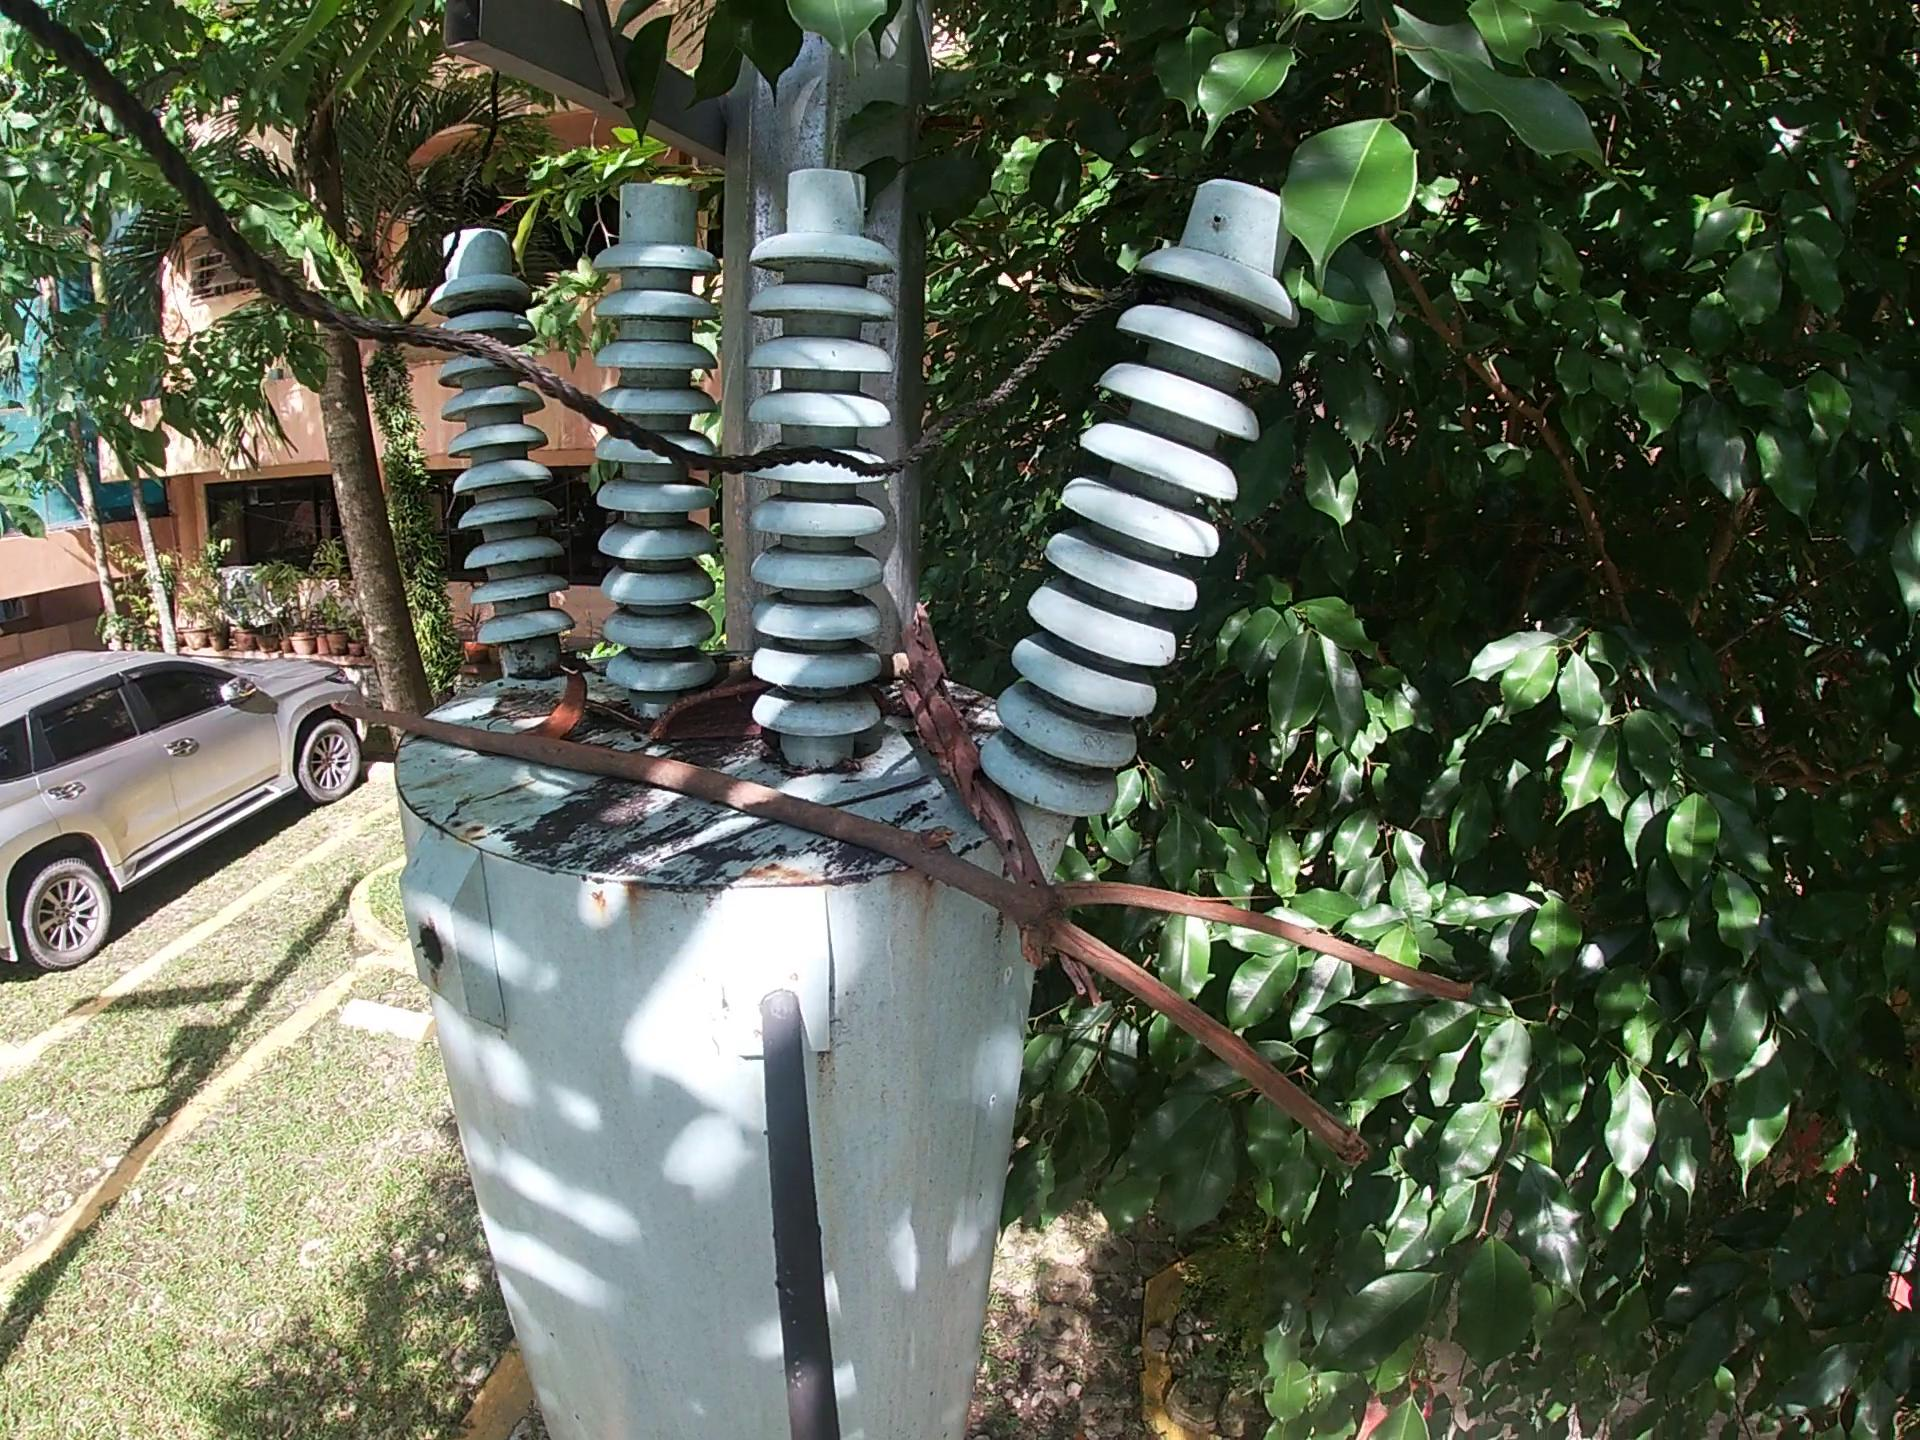mahogany fruit: (643, 685, 763, 749), (528, 659, 584, 740)
tree branch: (327, 700, 1494, 1178), (900, 604, 1104, 1006), (670, 818, 773, 862), (827, 770, 930, 806), (588, 697, 641, 731), (482, 706, 547, 731), (714, 656, 754, 685), (878, 649, 909, 679)
